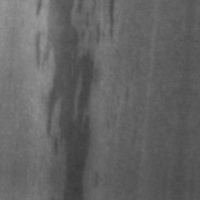inclusion: (22, 0, 103, 178), (102, 5, 119, 47)
